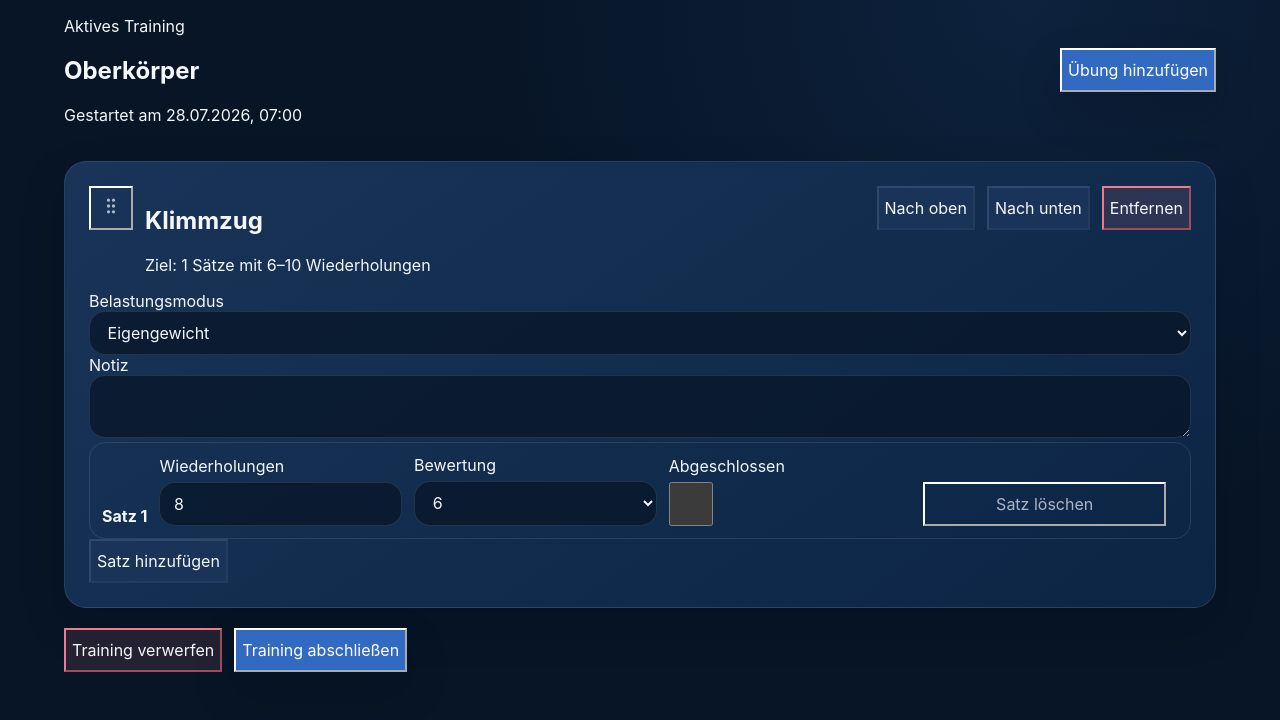
Scenario: ActiveWorkoutPage › switches bodyweight modes and shows only the applicable weight label
Expected: the heading "Klimmzug" is shown, top-left (145, 206), bottom-right (263, 235)
Step 1. Select "Zusatzgewicht" in the dropdown named "Belastungsmodus für Klimmzug" → {"x": 640, "y": 333}, box top-left (89, 311), bottom-right (1191, 355)
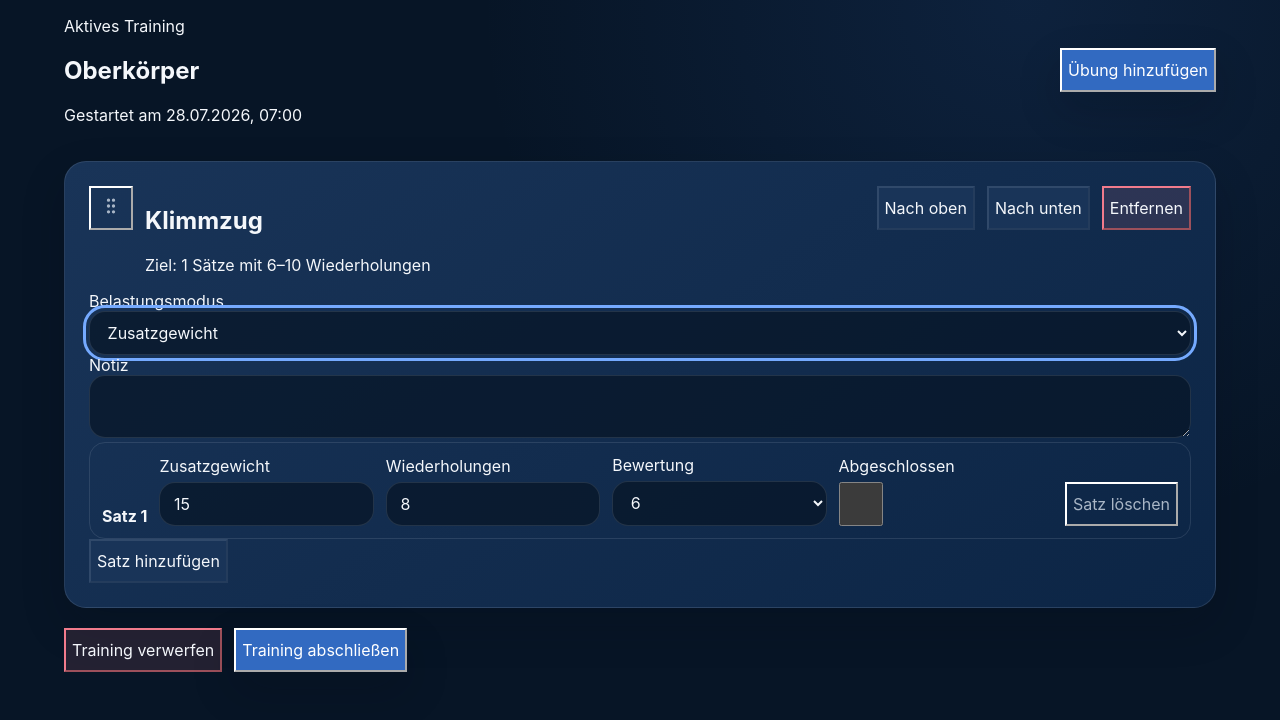
Expected: the label named "Satz 1 Gewicht" reads "Zusatzgewicht", top-left (160, 456), bottom-right (270, 476)
Expected: the number field named "Satz 1 Gewicht" holds "15", top-left (160, 482), bottom-right (374, 526)
Step 2. Select "Unterstützung" in the dropdown named "Belastungsmodus für Klimmzug" → {"x": 640, "y": 333}, box top-left (89, 311), bottom-right (1191, 355)
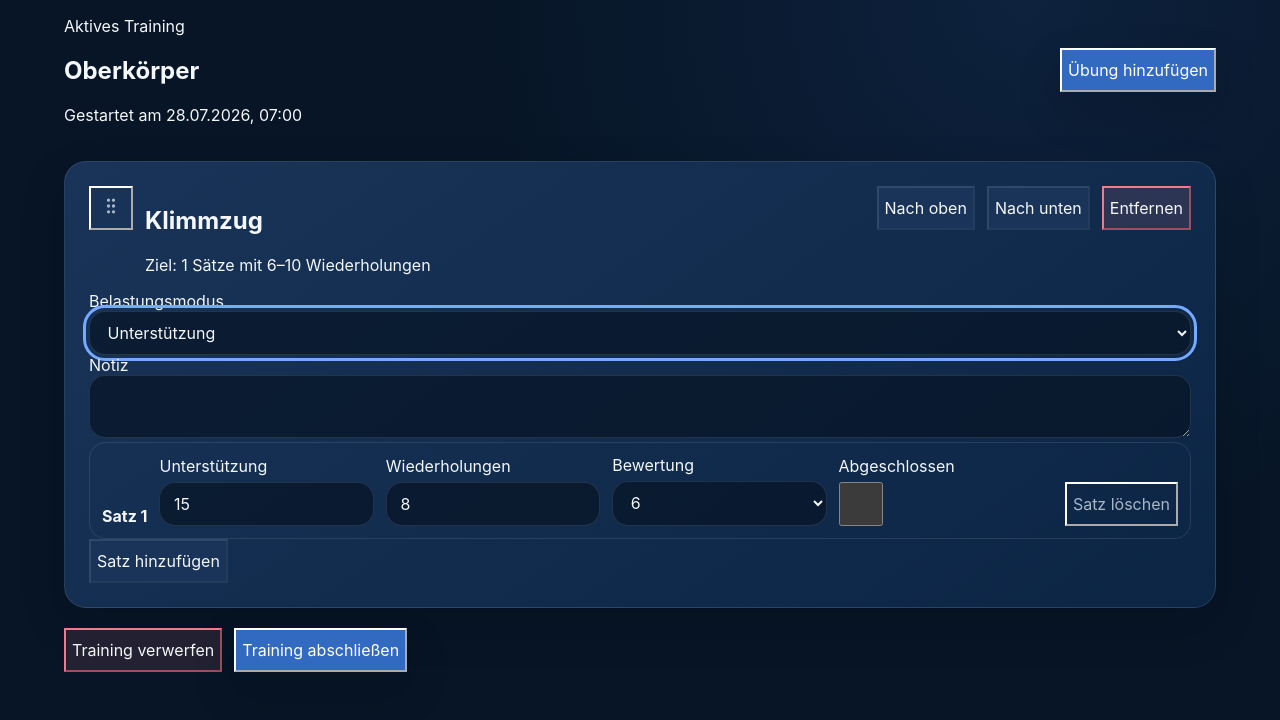
Expected: the label named "Satz 1 Gewicht" reads "Unterstützung", top-left (160, 456), bottom-right (267, 476)
